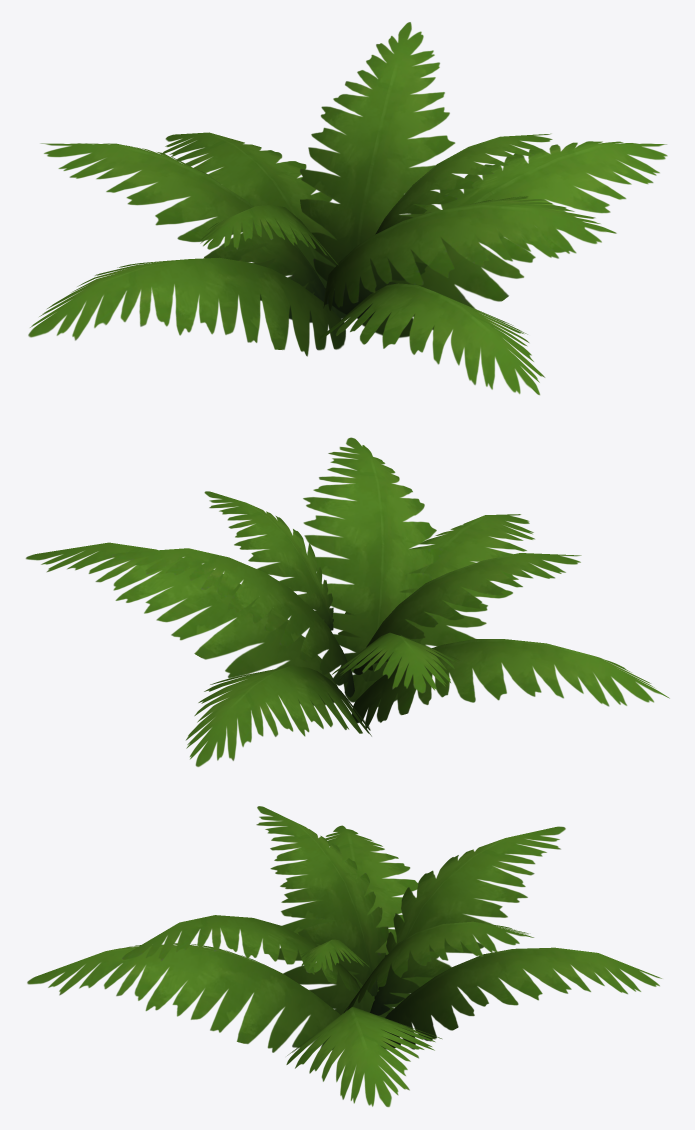
File: fern.glb
The picture shows the model from 3 angles, top to bottom: view 1: azimuth 30°, elevation 25°; view 2: azimuth 150°, elevation 25°; view 3: azimuth 270°, elevation 25°; orthographic projection. The views are drawn at different scales.
Visible parts, largest first — view 1: Fern_1; view 2: Fern_1; view 3: Fern_1.
Boxes of the visible parts, box(x1,y1,x2,y2) form: Fern_1: box(28, 22, 667, 395); Fern_1: box(25, 437, 669, 766); Fern_1: box(27, 806, 661, 1107).
Bounding box in the file's own units: 9.05 × 2.69 × 8.49.
1 material, 1 textured.
